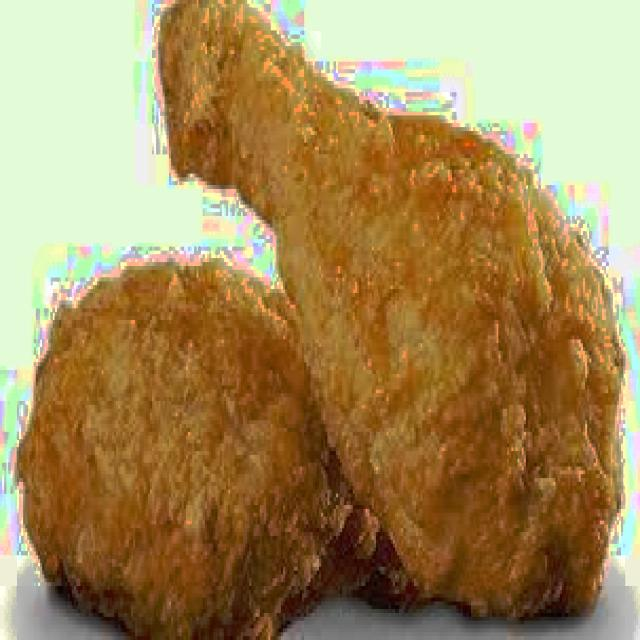fried_chicken: (154, 0, 640, 625), (19, 254, 560, 640)
